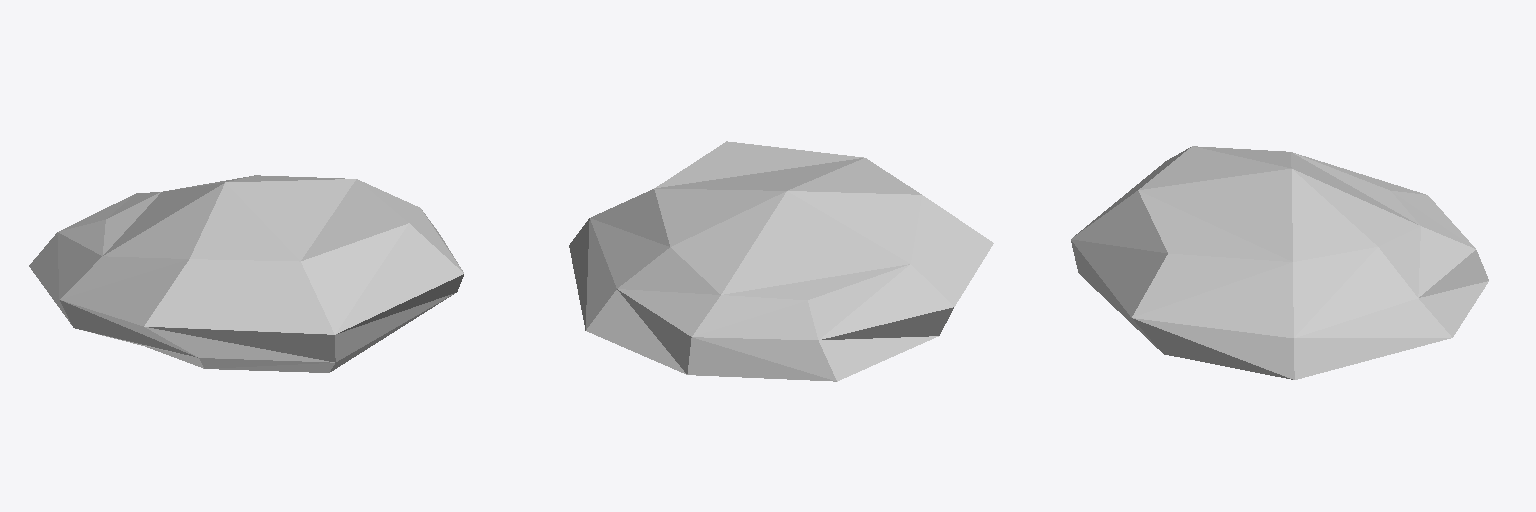
Rendered from SmallRock01_mesh.obj.
3 views of the same model, side by side, from view 1: azimuth 30°, elevation 25°; view 2: azimuth 150°, elevation 25°; view 3: azimuth 270°, elevation 25° (orthographic).
Visible parts, largest first — view 1: SmallRock01_mesh SmallRock01 SmallRocks; view 2: SmallRock01_mesh SmallRock01 SmallRocks; view 3: SmallRock01_mesh SmallRock01 SmallRocks.
Part boxes in pixels (x1,y1,x2,y2): SmallRock01_mesh SmallRock01 SmallRocks: (29, 175, 463, 372); SmallRock01_mesh SmallRock01 SmallRocks: (569, 141, 993, 381); SmallRock01_mesh SmallRock01 SmallRocks: (1071, 146, 1488, 379).
Bounding box in the file's own units: 90.31 × 33.94 × 85.48.